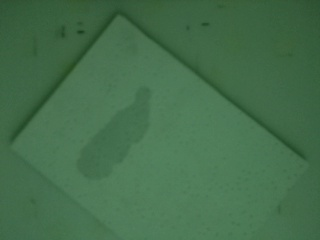Water_detected: (82, 98, 150, 170)
